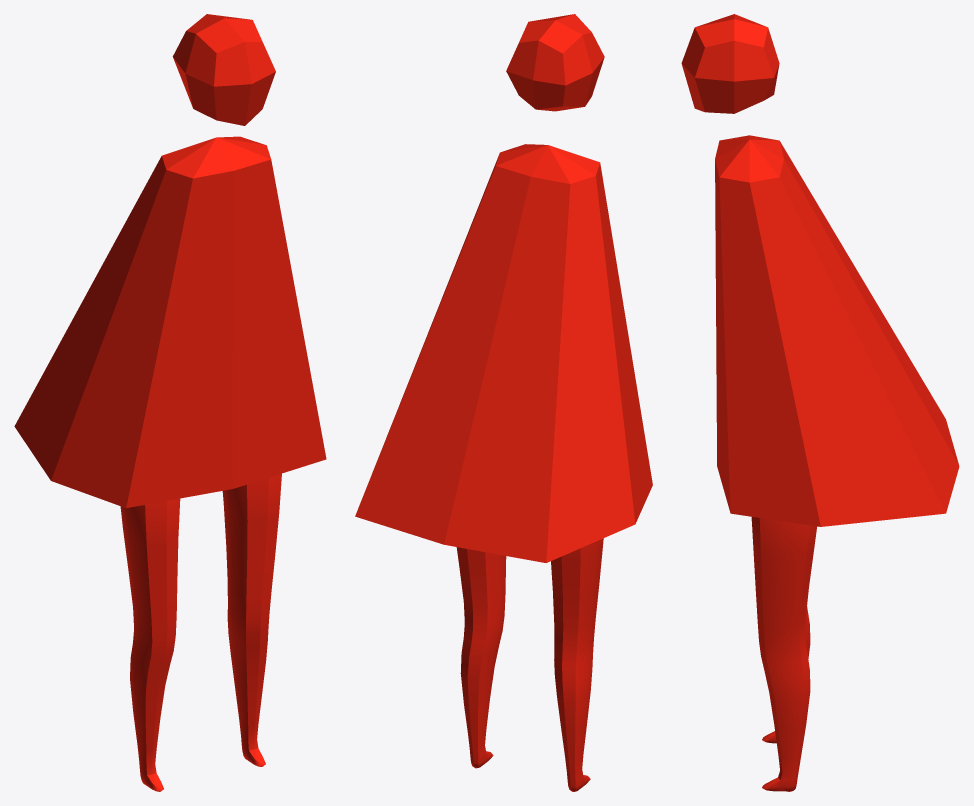
File: Charcter2.fbx
The picture shows the model from 3 angles, left to right: view 1: azimuth 30°, elevation 25°; view 2: azimuth 150°, elevation 25°; view 3: azimuth 270°, elevation 25°; orthographic projection. The views are drawn at different scales.
Visible parts, largest first — view 1: Cone, Leg_L, Leg_R, Platonic; view 2: Cone, Leg_L, Leg_R, Platonic; view 3: Cone, Leg_R, Platonic.
Boxes of the visible parts, left/top/right/bottom form: Cone: left=14, top=136, right=326, bottom=508; Leg_L: left=120, top=498, right=180, bottom=791; Leg_R: left=222, top=473, right=281, bottom=766; Platonic: left=172, top=14, right=275, bottom=125; Cone: left=355, top=144, right=652, bottom=562; Leg_L: left=551, top=538, right=603, bottom=791; Leg_R: left=456, top=547, right=506, bottom=768; Platonic: left=506, top=14, right=604, bottom=111; Cone: left=715, top=135, right=959, bottom=526; Leg_R: left=751, top=517, right=817, bottom=791; Platonic: left=681, top=14, right=779, bottom=113.
Bounding box in the file's own units: 141 × 404 × 137.
